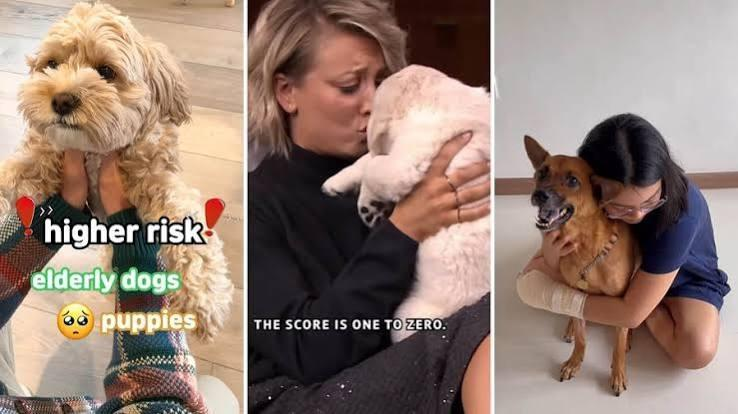adult_dog: (2, 1, 234, 347), (523, 133, 643, 398)
puppy-dog: (321, 63, 490, 342)
